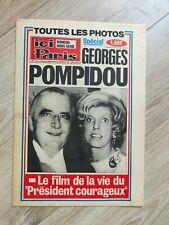paper: (14, 19, 145, 206)
